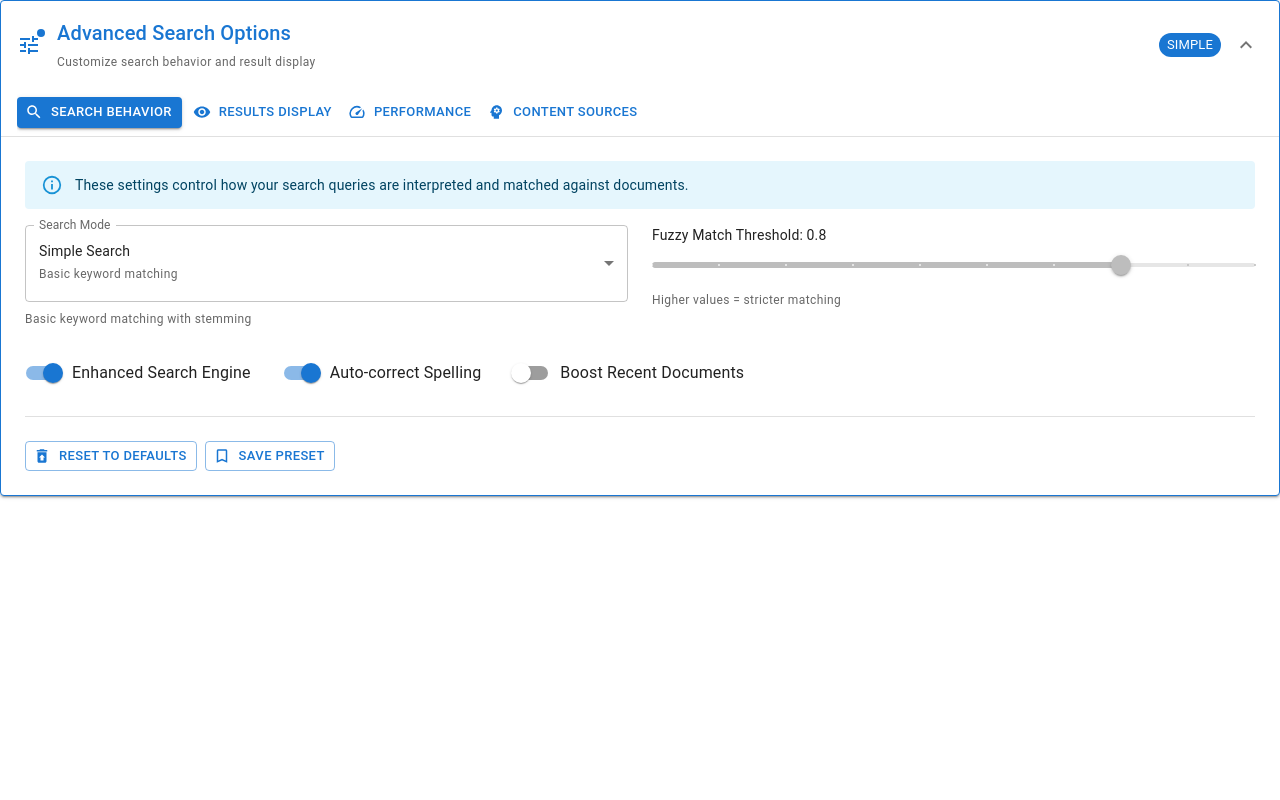
Test: AdvancedSearchPanel › shows save preset dialog when save preset is clicked
Click the button "Save Preset": (270, 456) [205,441,335,471]
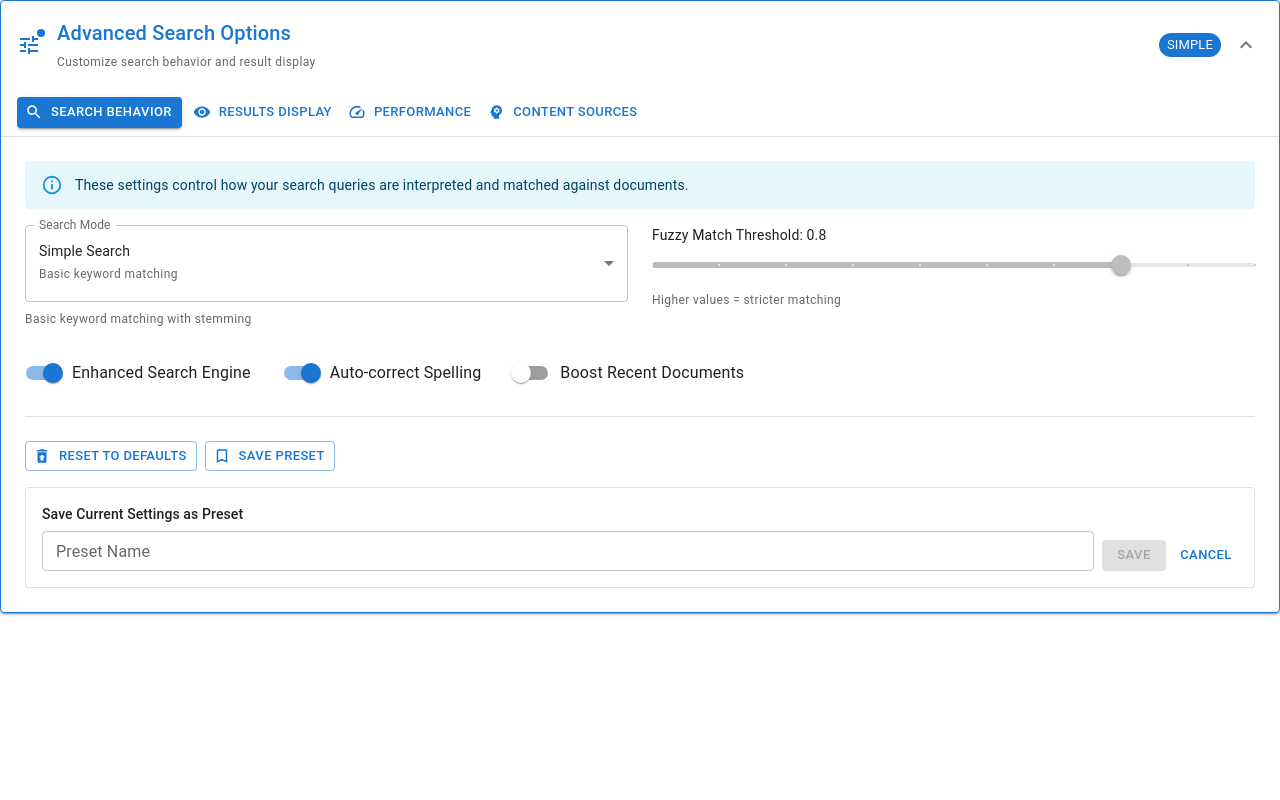
Expected: the heading "Save Current Settings as Preset" is shown, [42,506,243,522]
Expected: the field labelled "Preset Name" is shown, [42,531,1094,571]
